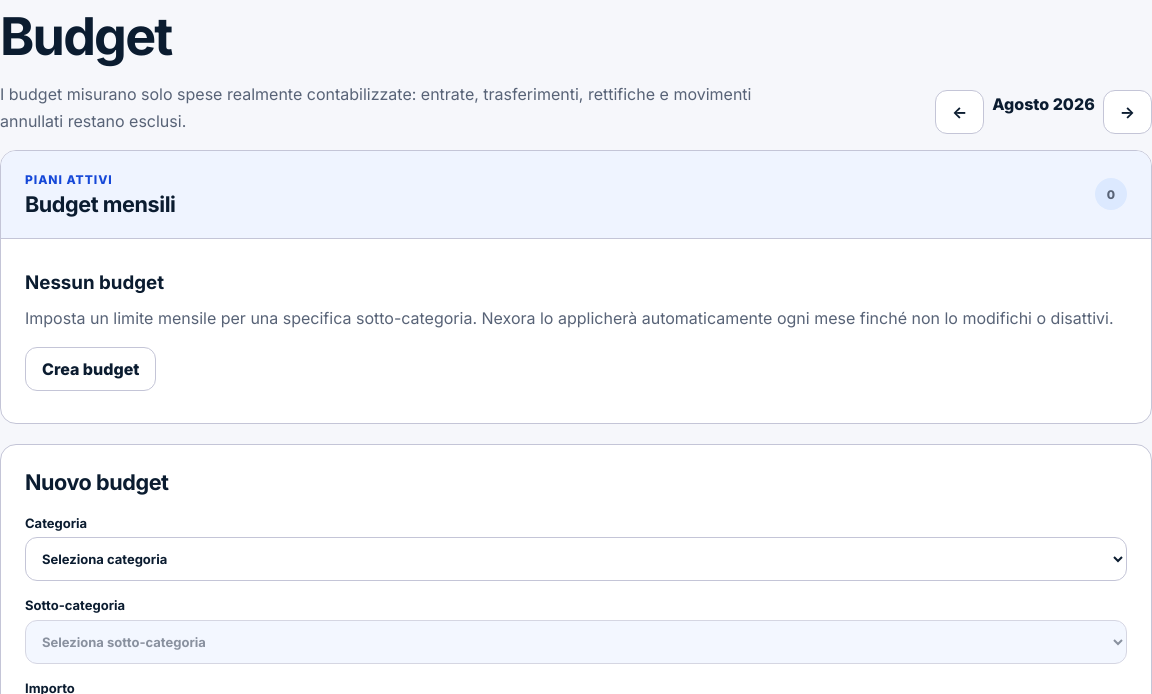
Test: BudgetsPage › requires a subcategory and ordered thresholds before saving
Select "Trasporti" in the dropdown labelled "Categoria" at x=576, y=559, box [25, 537, 1127, 581]
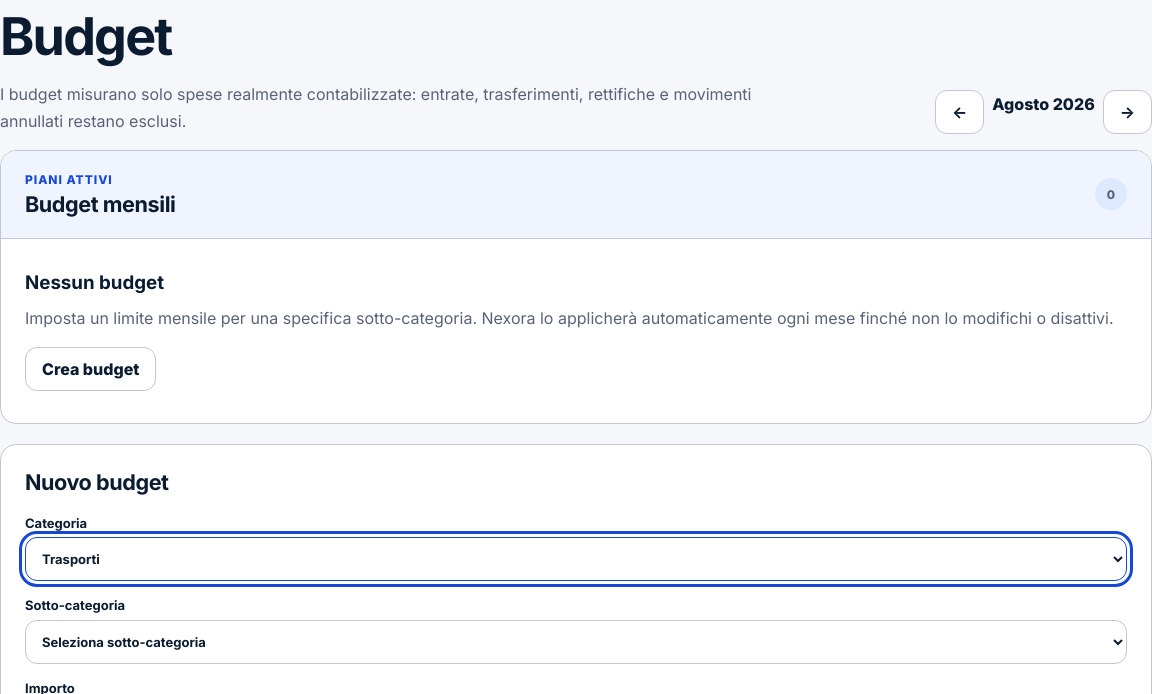
Select "Carburante" in the dropdown labelled "Sotto-categoria" at x=576, y=642, box [25, 620, 1127, 664]
(page scrolled)
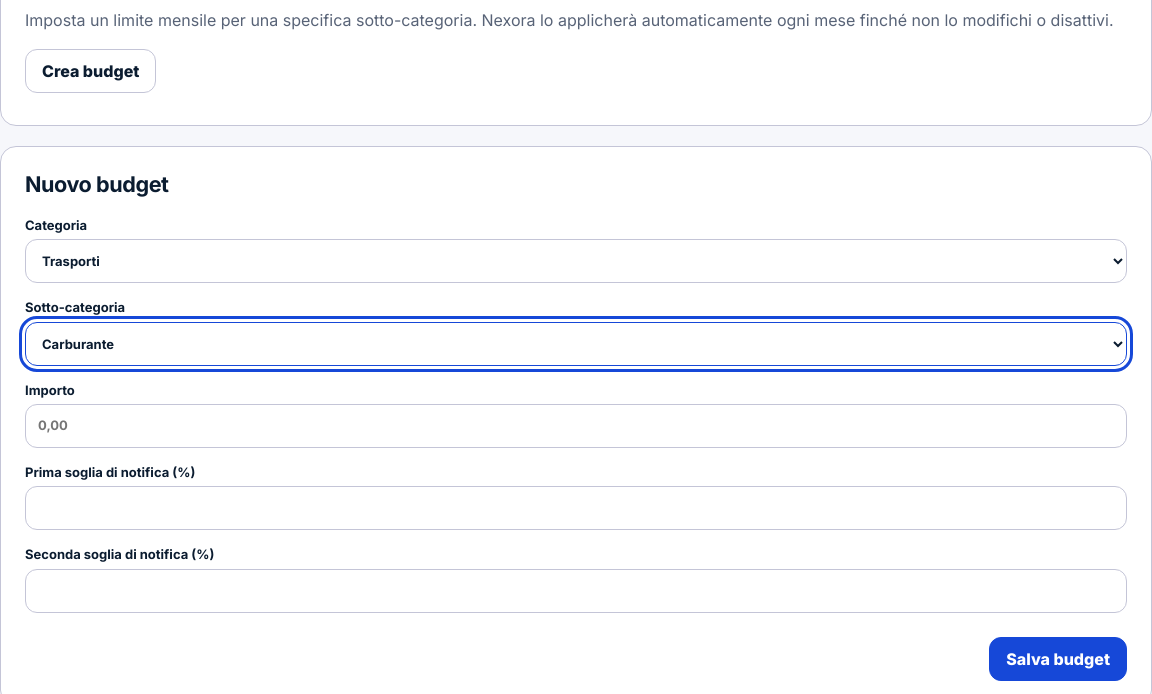
Type "80,00" into the field labelled "Importo" at x=576, y=426, box [25, 404, 1127, 448]
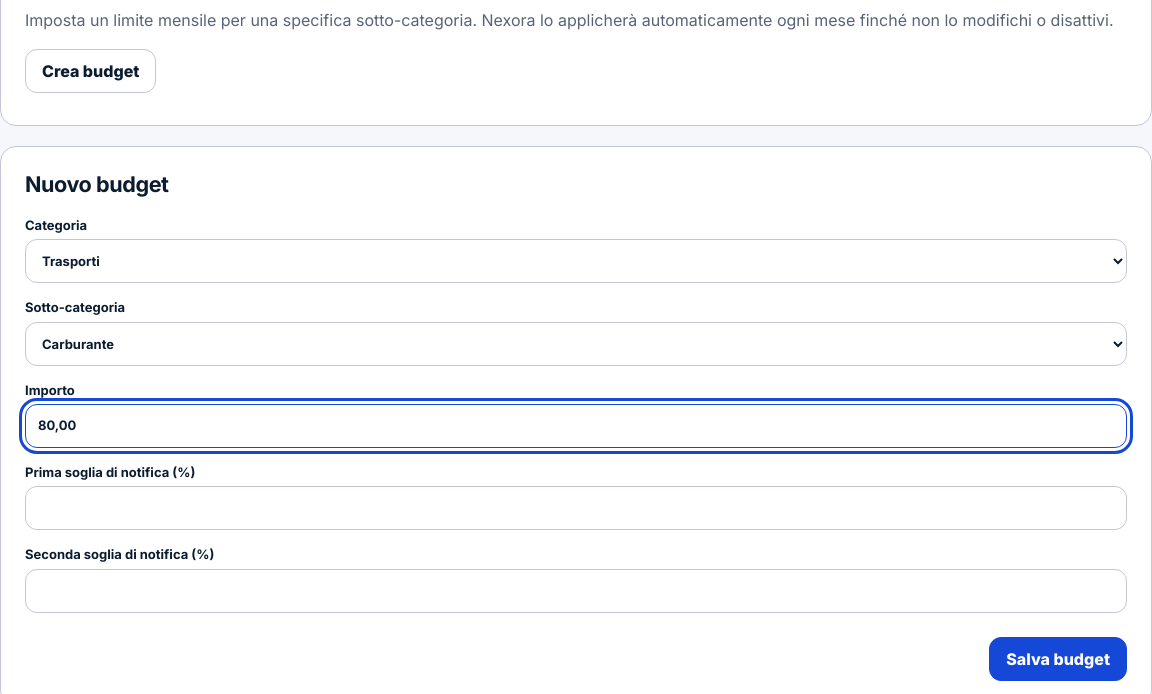
Type "90" into the number field labelled "Prima soglia di notifica (%)" at x=576, y=508, box [25, 486, 1127, 530]
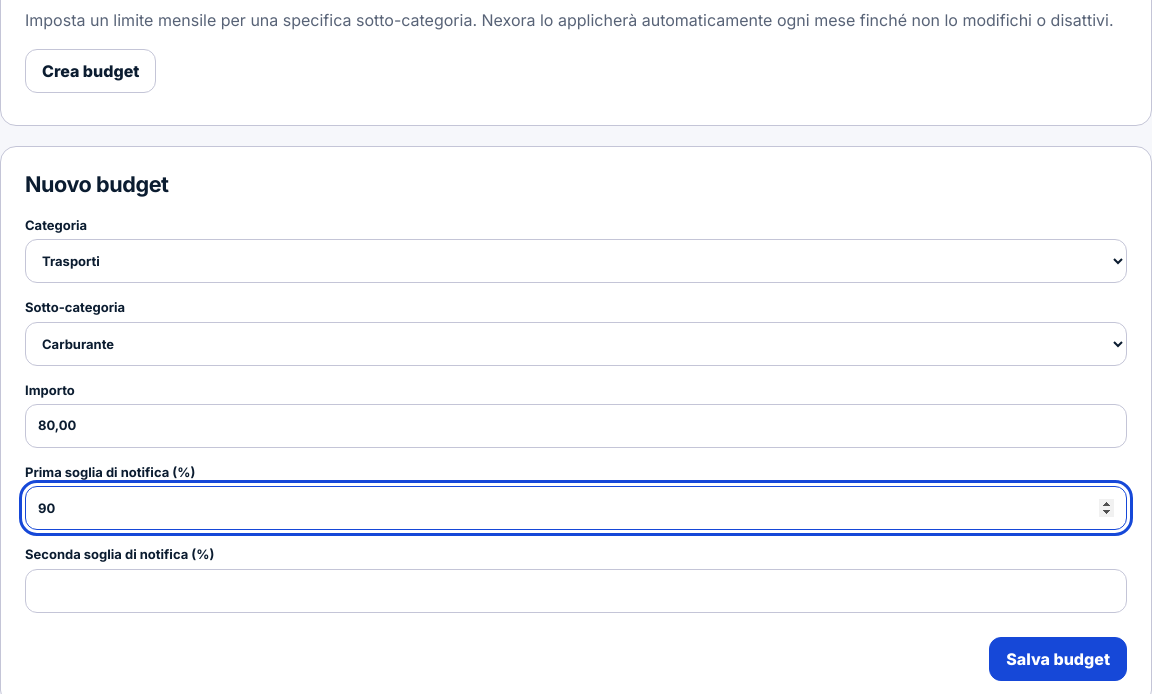
Type "50" into the number field labelled "Seconda soglia di notifica (%)" at x=576, y=591, box [25, 569, 1127, 613]
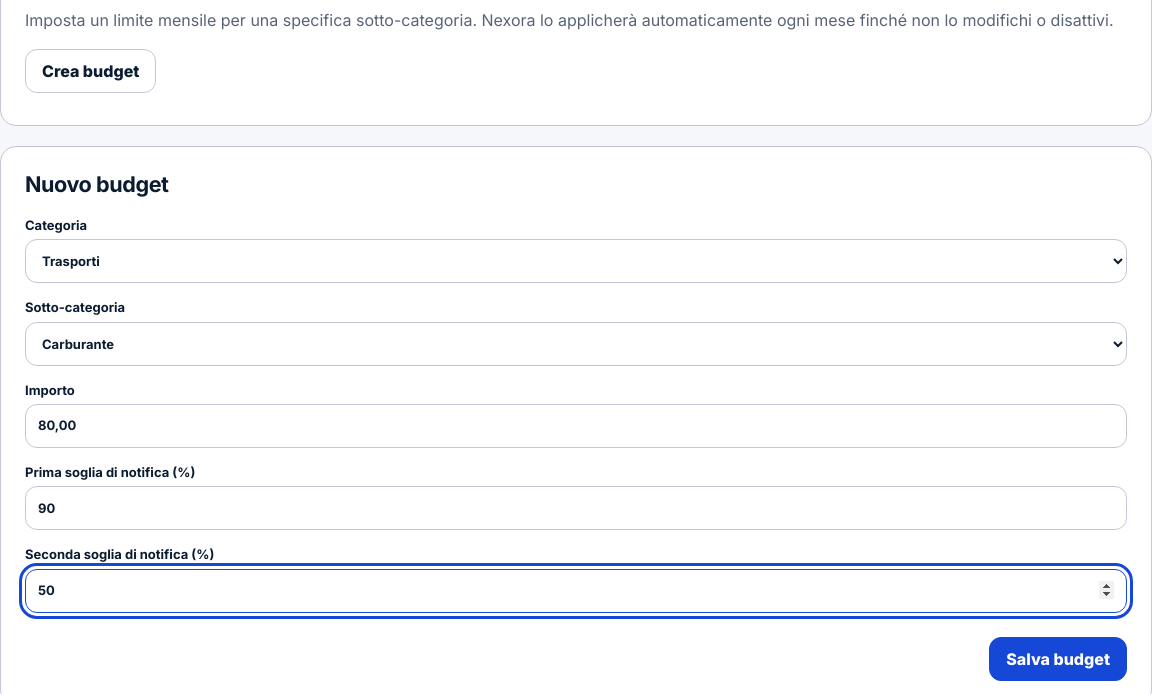
Click the button "Salva budget" at x=1058, y=659, box [989, 637, 1127, 681]
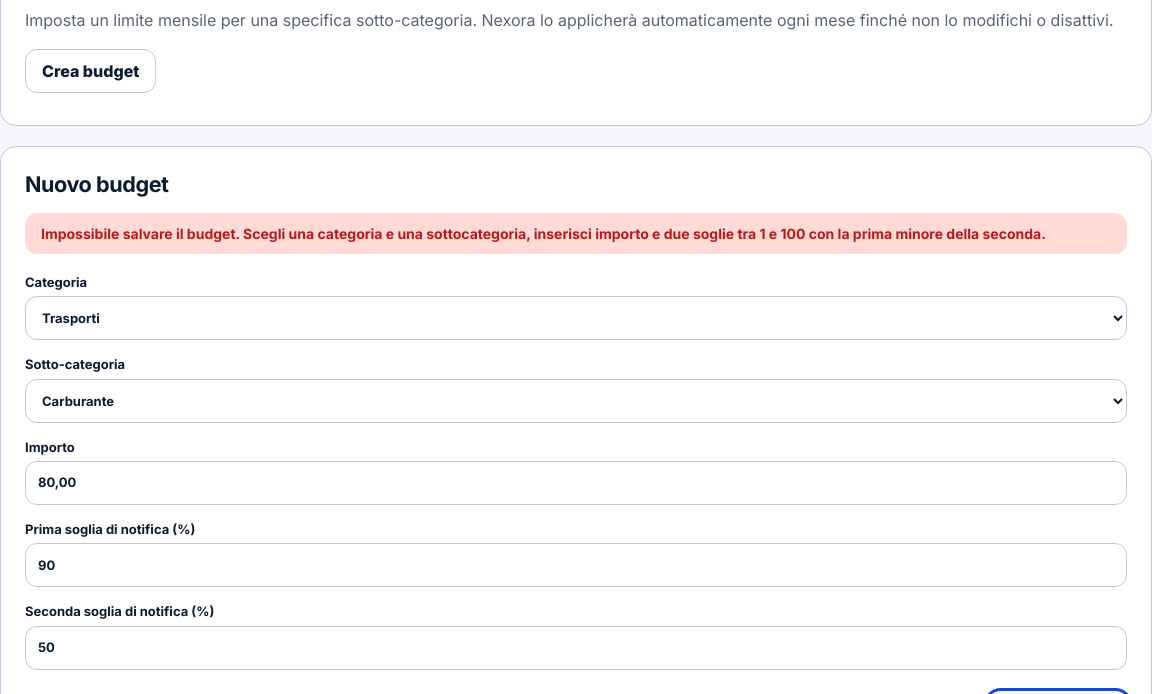
Check: the message shows "prima minore della seconda", box [41, 225, 1046, 242]
